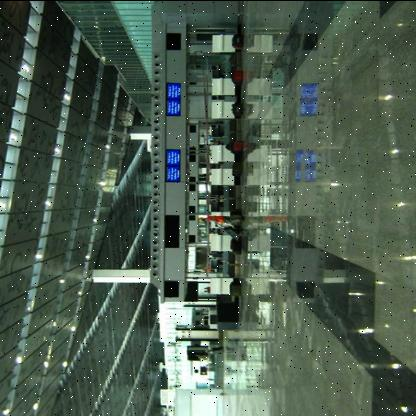airport-trolley: (214, 222, 244, 241)
